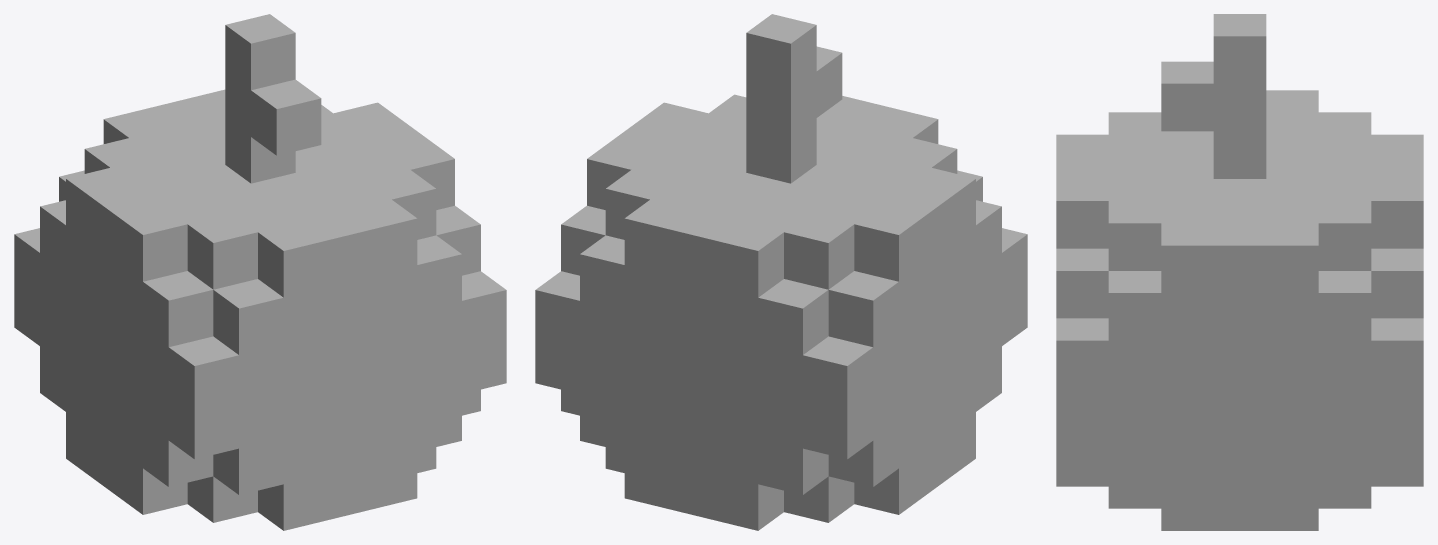
Rendered from Apple.fbx.
The picture shows the model from 3 angles, left to right: view 1: azimuth 30°, elevation 25°; view 2: azimuth 150°, elevation 25°; view 3: azimuth 270°, elevation 25°; orthographic projection.
Visible parts, largest first — view 1: obj1; view 2: obj1; view 3: obj1.
Boxes of the visible parts, bbox=[...] form: obj1: bbox=[14, 14, 506, 530]; obj1: bbox=[535, 14, 1027, 530]; obj1: bbox=[1056, 14, 1423, 530].
Bounding box in the file's own units: 70 × 90 × 70.
Materials: 1 (1 with a texture image).
